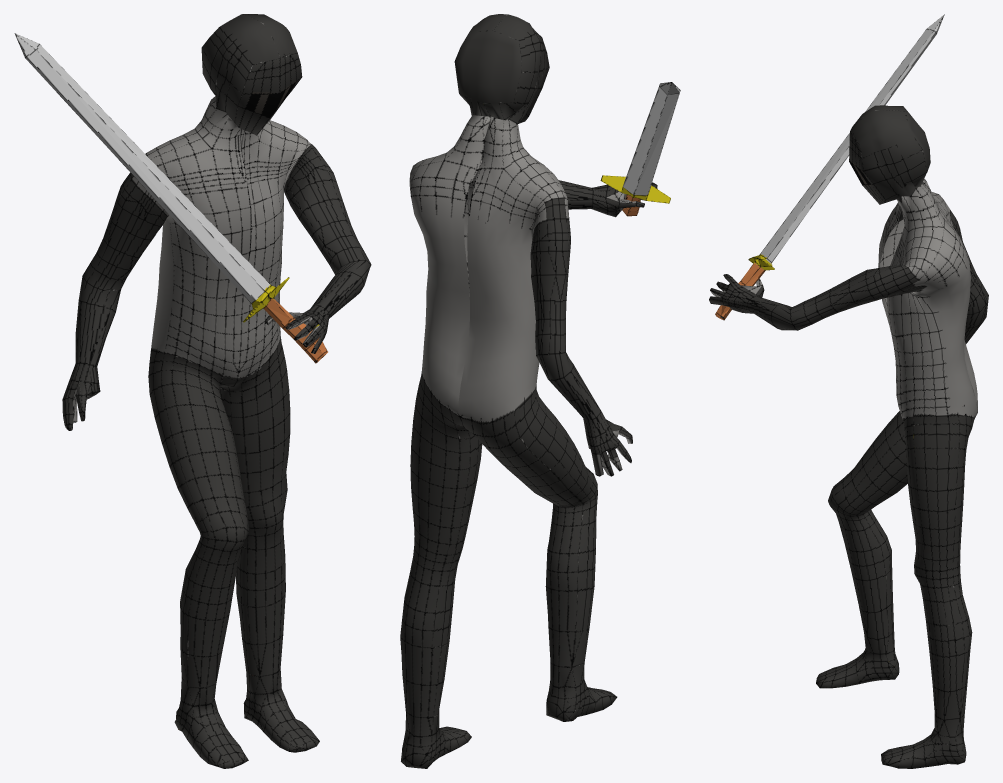
File: player_attack_befor.obj
3 renders of one model, left to right at view 1: azimuth 30°, elevation 25°; view 2: azimuth 150°, elevation 25°; view 3: azimuth 270°, elevation 25°, orthographic. The views are drawn at different scales.
Parts seen in each view (by area): view 1: Cube_Cube.001; view 2: Cube_Cube.001; view 3: Cube_Cube.001.
Part boxes in pixels (bbox=[...]): Cube_Cube.001: bbox=[14, 14, 371, 768]; Cube_Cube.001: bbox=[400, 14, 680, 768]; Cube_Cube.001: bbox=[709, 14, 988, 768].
Size of the model in its own units: 1.89 by 4.85 by 1.91.
Materials: 1 (1 with a texture image).
